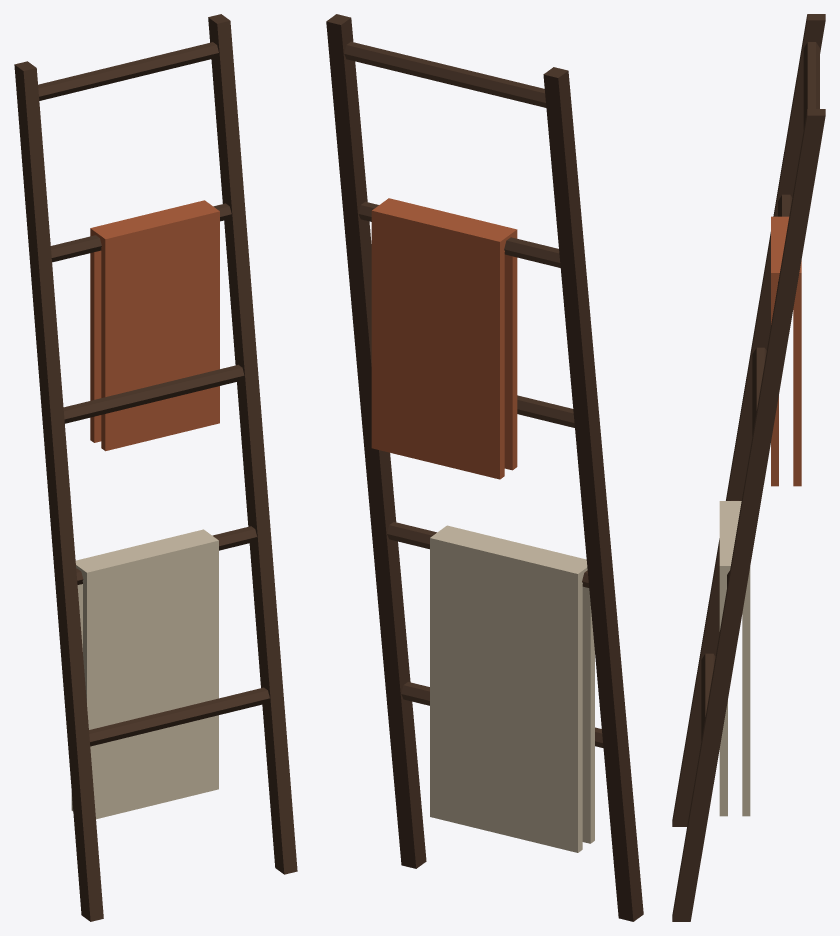
Rendered from FN_Ladder_Blanket.obj.
3 views of the same model, side by side, from view 1: azimuth 30°, elevation 25°; view 2: azimuth 150°, elevation 25°; view 3: azimuth 270°, elevation 25° (orthographic). The views are drawn at different scales.
Visible parts, largest first — view 1: FN_Ladder_Blanket; view 2: FN_Ladder_Blanket; view 3: FN_Ladder_Blanket.
Boxes of the visible parts, <box> form: FN_Ladder_Blanket: <box>14,14,297,921</box>; FN_Ladder_Blanket: <box>326,14,643,921</box>; FN_Ladder_Blanket: <box>672,14,825,921</box>.
Bounding box in the file's own units: 0.47 × 1.74 × 0.3.
Materials: 1 (1 with a texture image).
